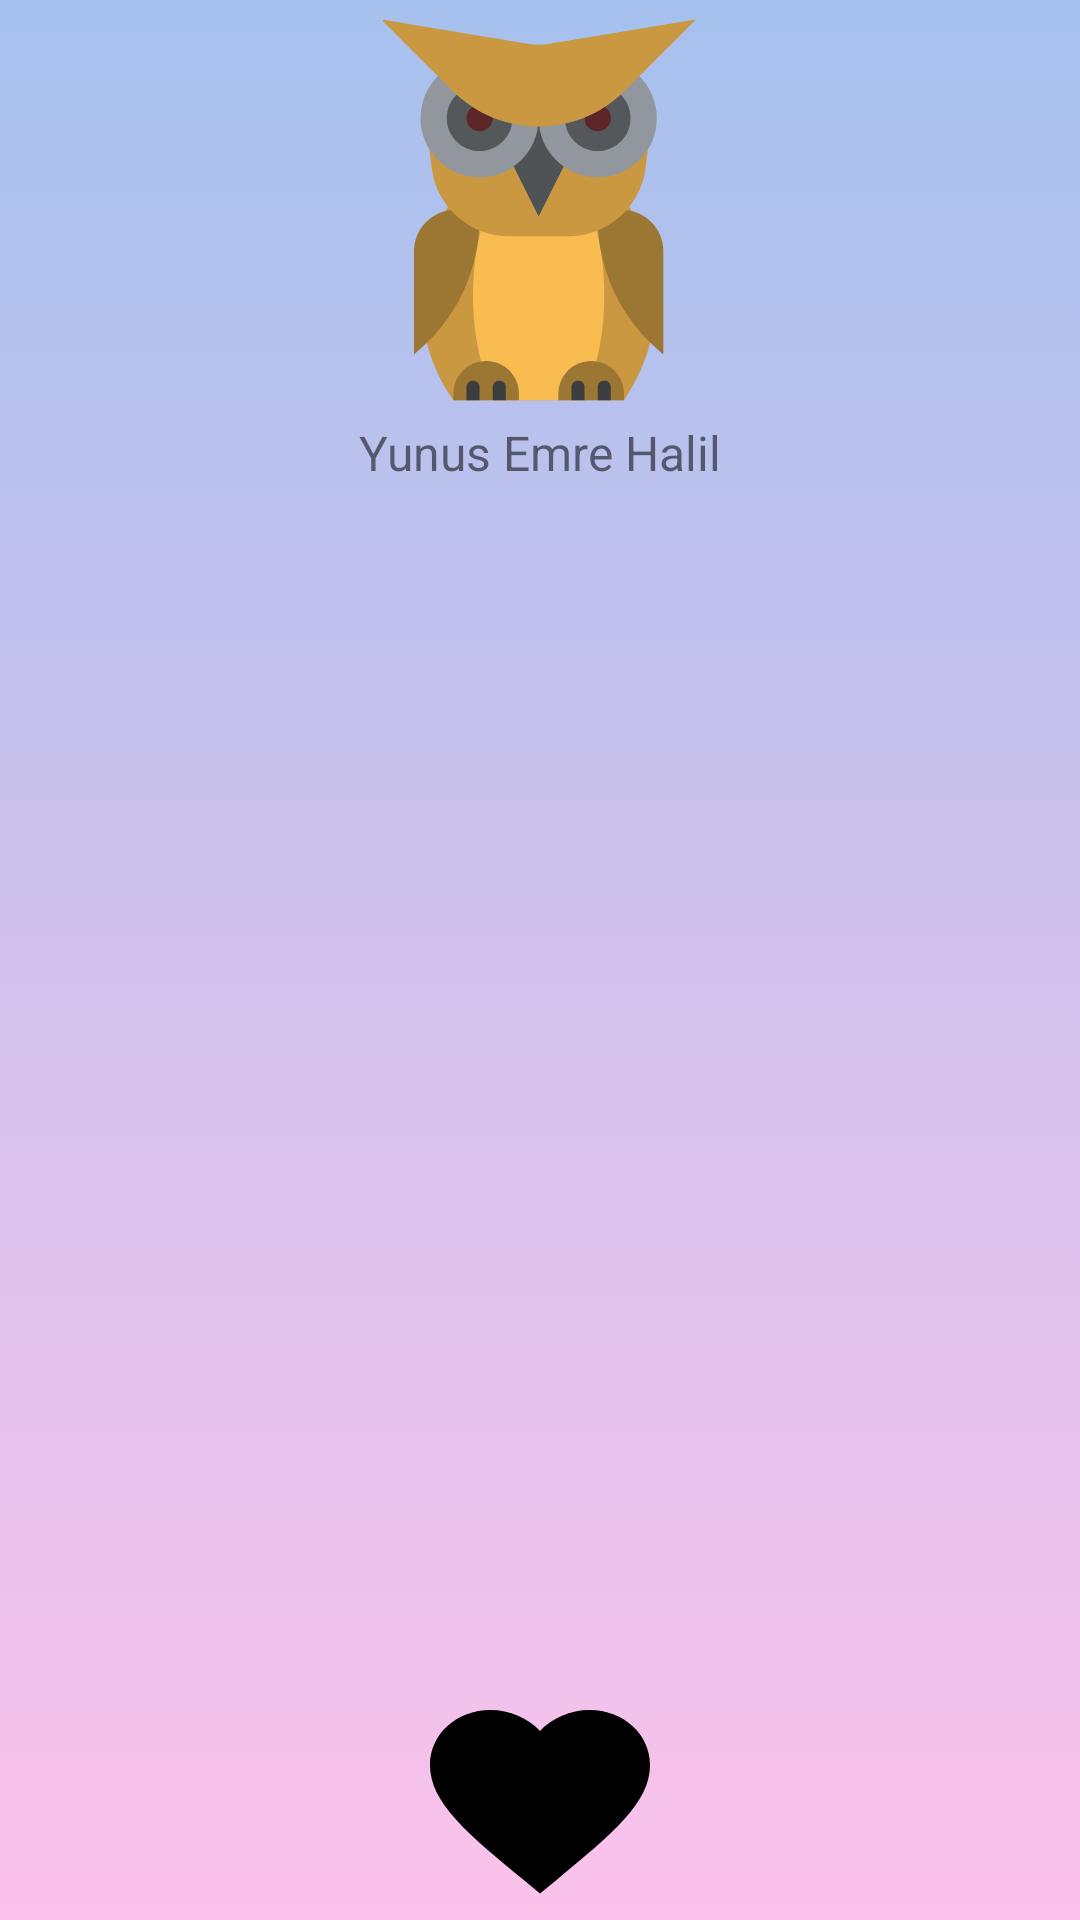

Icon click points for this 1080px×1920px phone screenshot, format [x,y]:
favorite: [540,1802]
